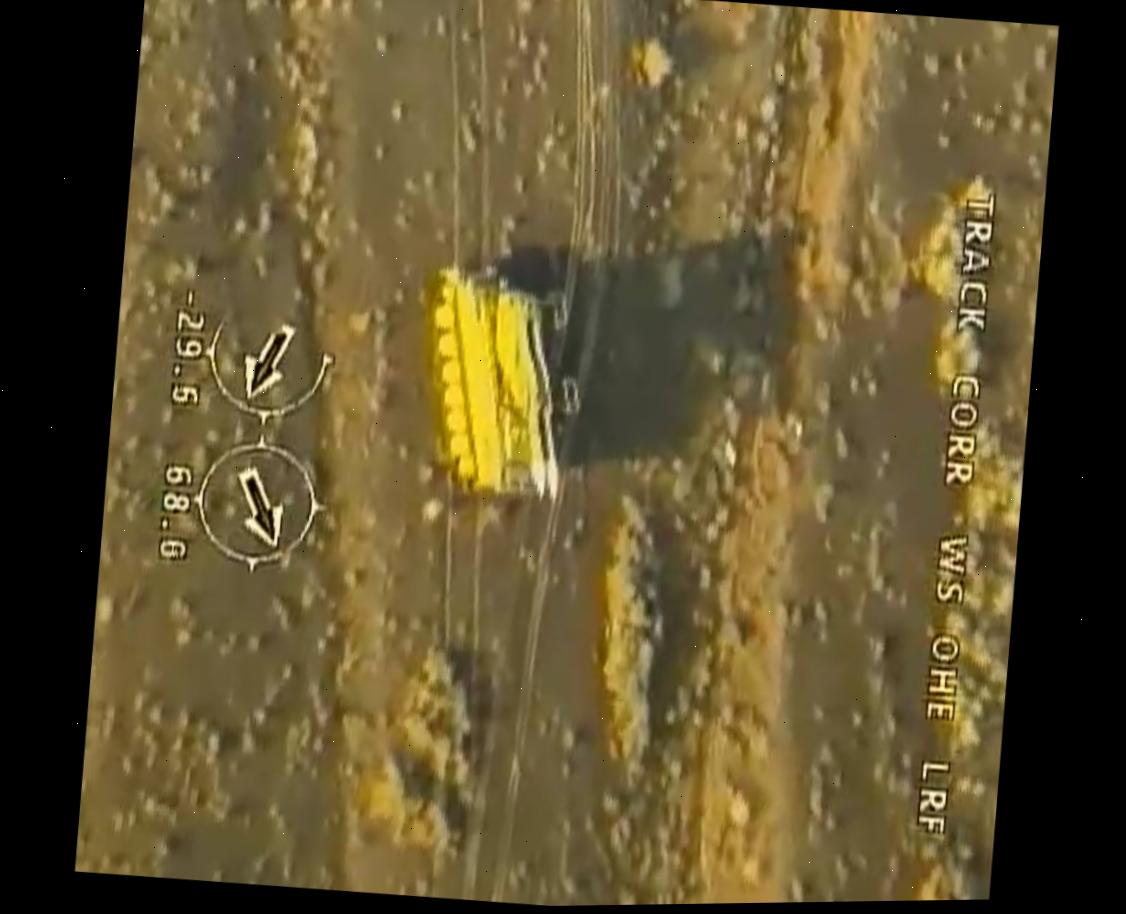armored_car: (410, 255, 583, 509)
